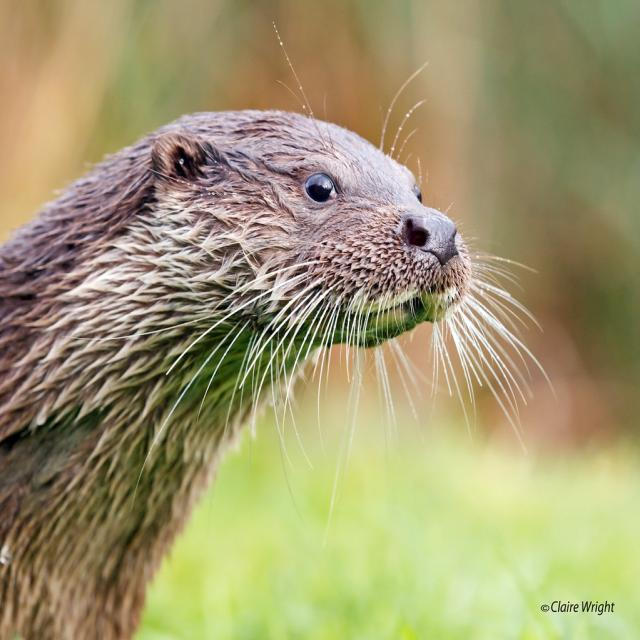otter: (1, 109, 472, 426)
